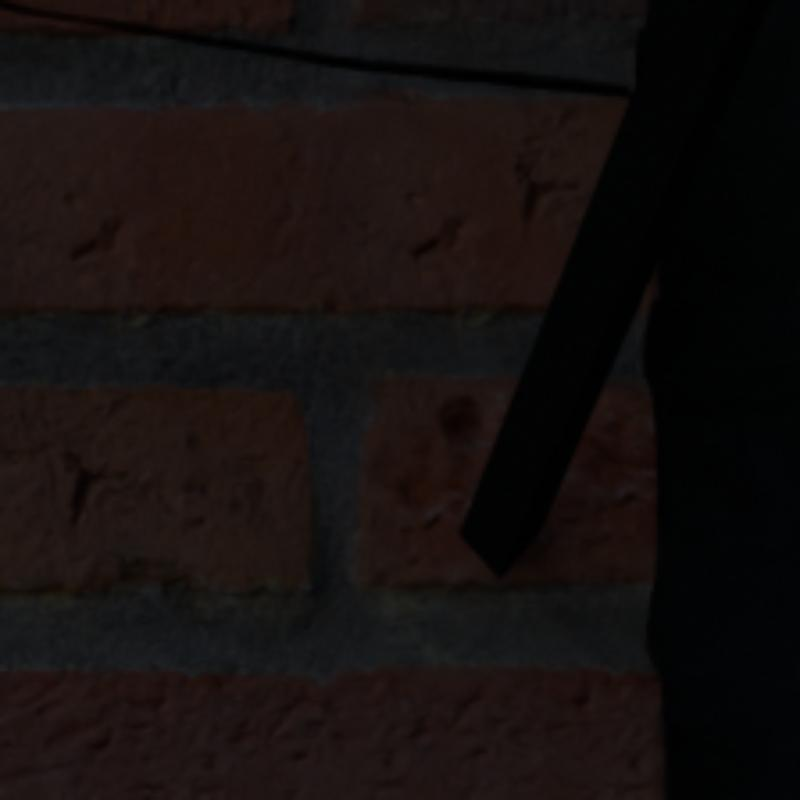crack: (0, 0, 636, 96)
